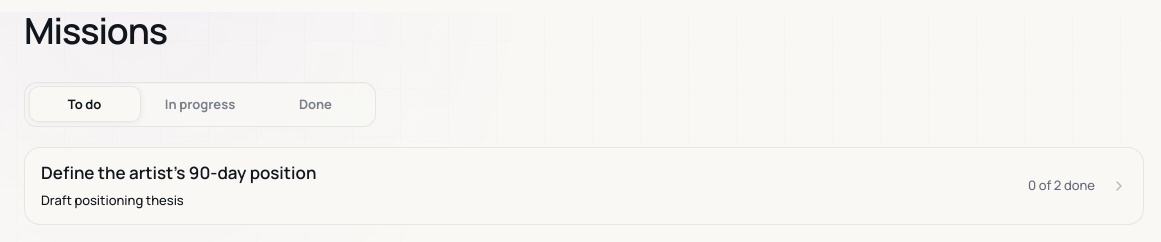
mobile-first mission workspace › prioritizes missions that need the user and keeps completed work collapsed
Expected: the button "To do" is shown, x1=28 y1=86 x2=141 y2=122
Expected: the button "Define the artist's 90-day position" is shown, x1=25 y1=148 x2=1143 y2=224
Click the button "Done" at {"x": 315, "y": 104}, box x1=259 y1=86 x2=372 y2=122
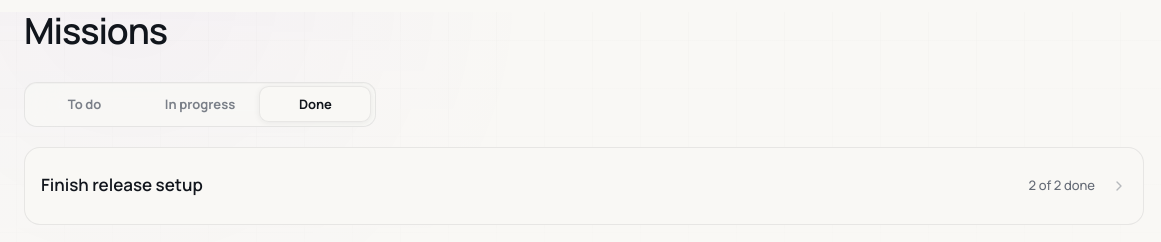
Now the button "Finish release setup 2 of 2 done" is shown, box x1=25 y1=148 x2=1143 y2=224
